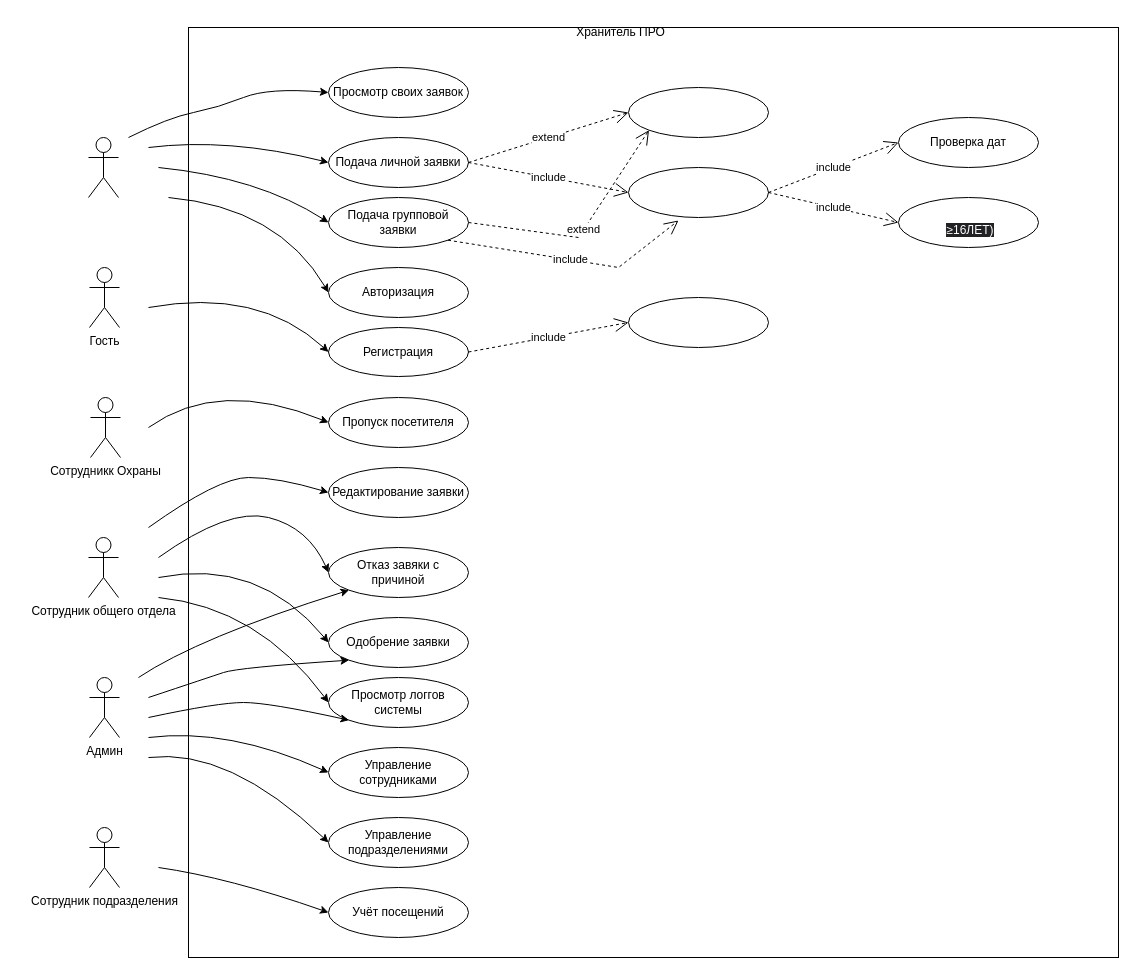
Image size: 1136x975. Some labels were removed from this diagram. The centre of each missing label's shape, as x and y in pixels:
Авторизованный пользователь: [103,167]
Валидация полей: [698,192]
Загрузка файлов: [698,112]
Шифрование пароля (MD5): [698,322]
